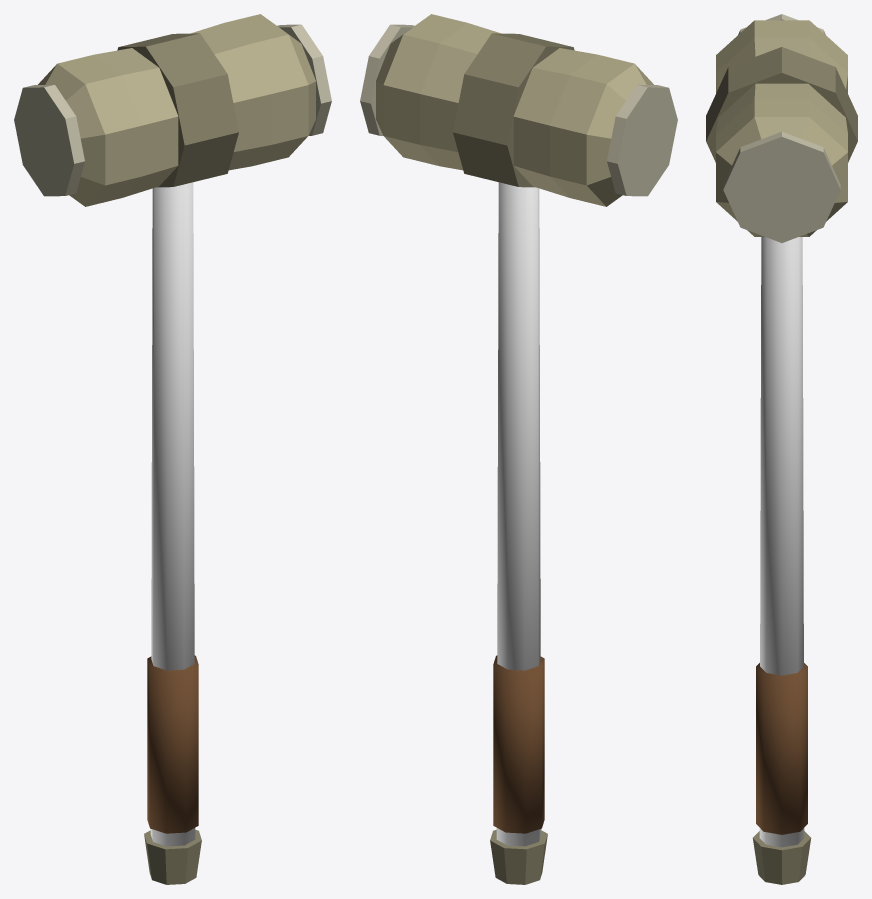
File: tin_hammer.glb
3 views of the same model, side by side, from view 1: azimuth 30°, elevation 25°; view 2: azimuth 150°, elevation 25°; view 3: azimuth 270°, elevation 25° (orthographic). The views are drawn at different scales.
Visible parts, largest first — view 1: tin_hammer_v0; view 2: tin_hammer_v0; view 3: tin_hammer_v0.
Part boxes in pixels (x1,y1,x2,y2): tin_hammer_v0: (14, 14, 331, 884); tin_hammer_v0: (360, 14, 677, 884); tin_hammer_v0: (706, 14, 857, 884).
Bounding box in the file's own units: 0.284 × 0.8792 × 0.1484.
